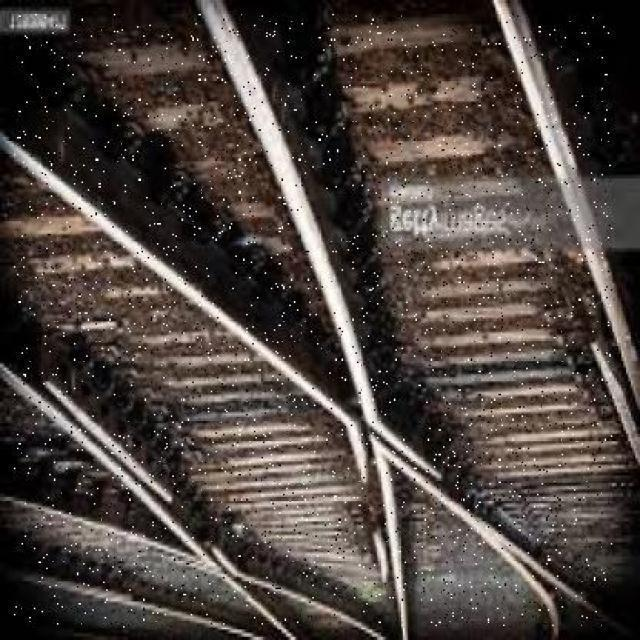rail: (15, 15, 614, 629)
